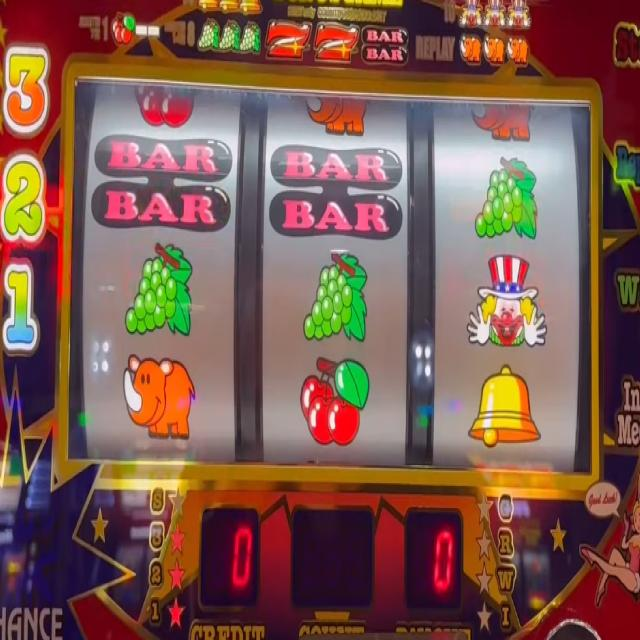bar: (90, 133, 233, 233), (268, 142, 404, 242), (360, 20, 409, 67)
bell: (468, 360, 542, 455), (198, 0, 220, 12), (241, 0, 261, 13), (221, 0, 240, 13)
cherry: (299, 352, 371, 448), (131, 78, 196, 130), (111, 6, 135, 52)
clown: (465, 252, 548, 352), (506, 0, 531, 33), (460, 0, 483, 33), (484, 0, 506, 32)
display: (67, 76, 594, 476)
elephant: (122, 351, 196, 444), (469, 96, 535, 144), (304, 95, 371, 136), (460, 32, 482, 67), (507, 35, 529, 70), (485, 33, 505, 69)
grape: (124, 238, 194, 340), (301, 246, 368, 350), (474, 152, 539, 242), (198, 16, 219, 56), (220, 16, 240, 54), (241, 19, 260, 56)
z: (266, 19, 312, 63), (314, 23, 359, 67)
